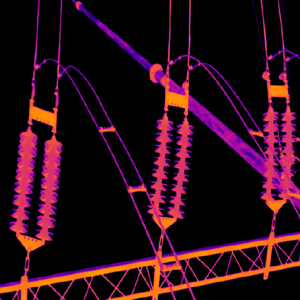insulator: (7, 129, 38, 232), (165, 120, 194, 219), (35, 138, 63, 240), (145, 117, 173, 215), (258, 108, 278, 203), (277, 108, 296, 200)
